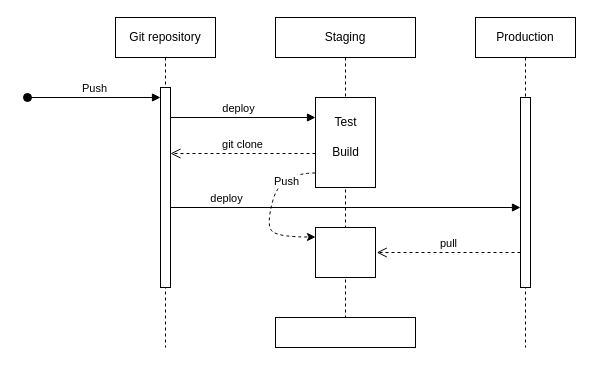
This 593x365 diagram has some shape labels left out. Here are the shapes that lost their labels. From the top down, the centre of each, then its label:
the point at 345,252: Images
the point at 345,332: Docker repository
